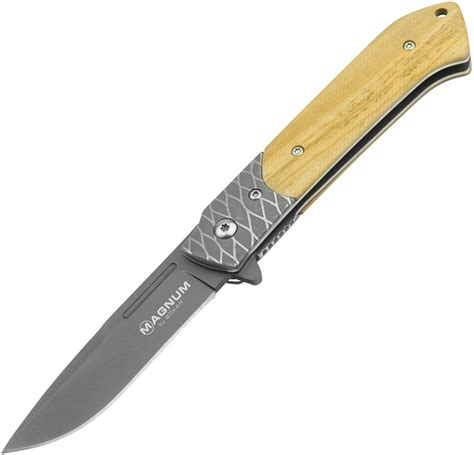knife: (4, 0, 474, 453)
